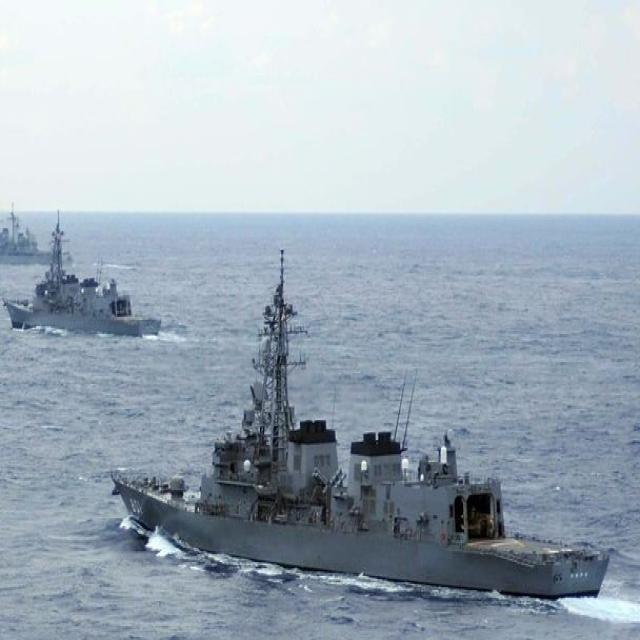navalvessels: (111, 258, 612, 630), (12, 236, 160, 337), (0, 201, 58, 264)
